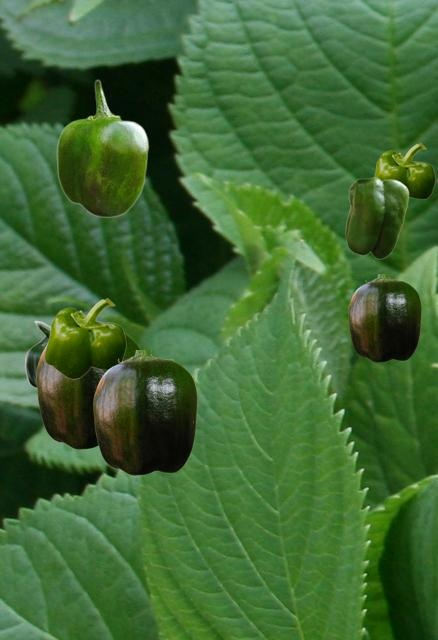bell_pepper: (93, 350, 196, 474), (56, 79, 148, 217), (36, 332, 140, 448), (44, 298, 125, 378), (348, 274, 420, 361), (345, 177, 408, 258), (373, 143, 434, 199), (24, 320, 49, 388)
